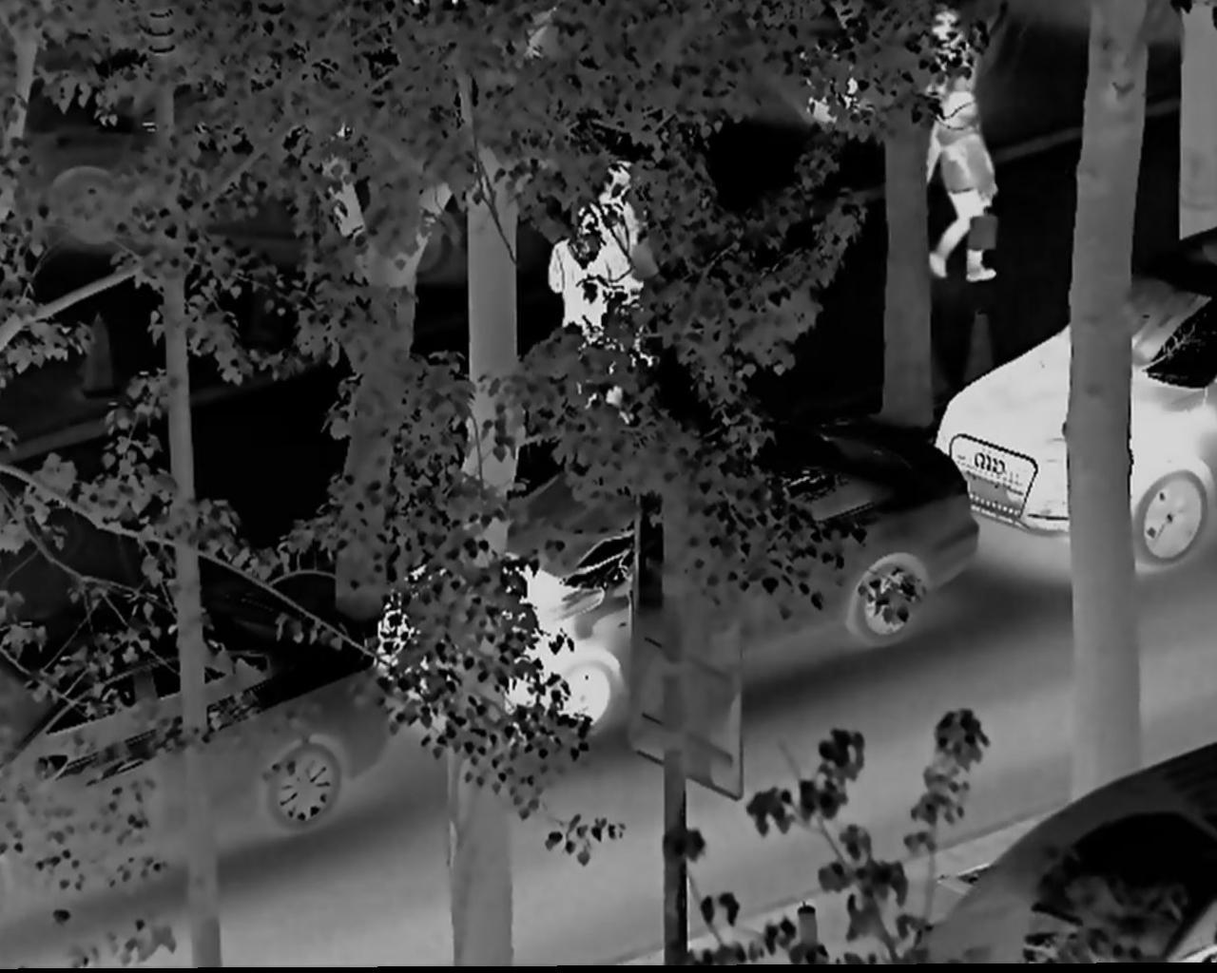person: (920, 85, 999, 294), (595, 154, 662, 372), (550, 219, 620, 398)
